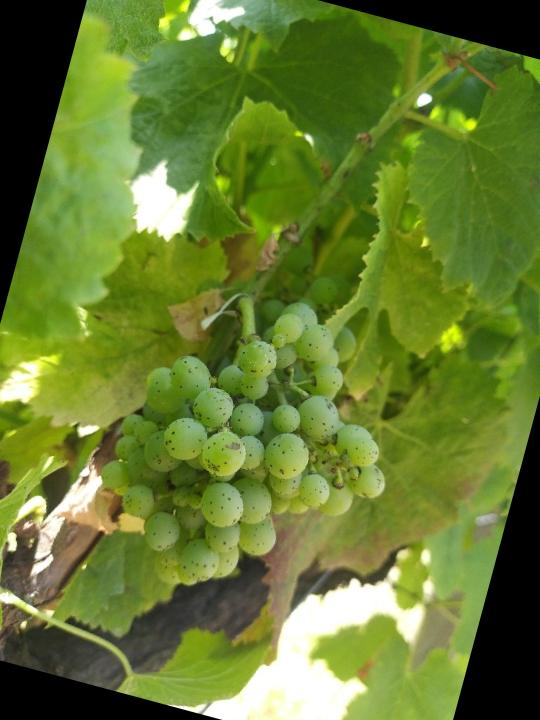grape: (77, 261, 431, 636)
